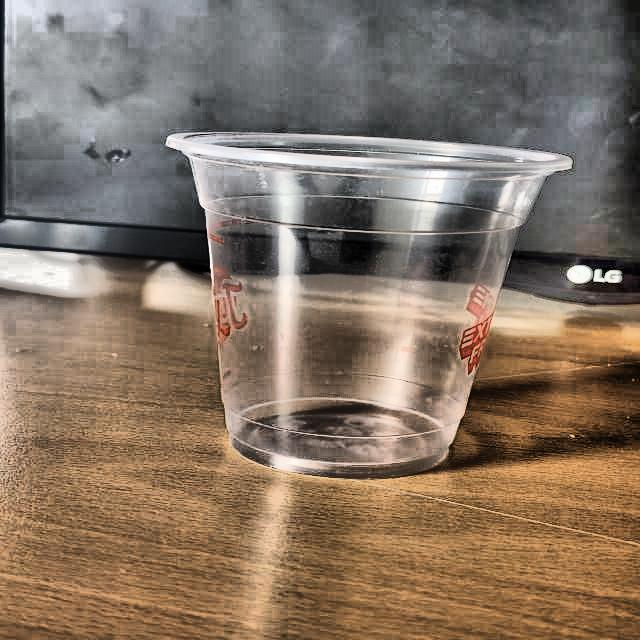plastic cup: (167, 126, 575, 478)
